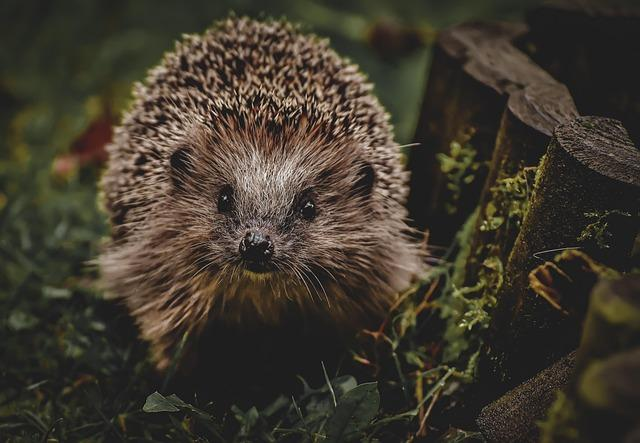Non_Gorille: (63, 9, 448, 387)
